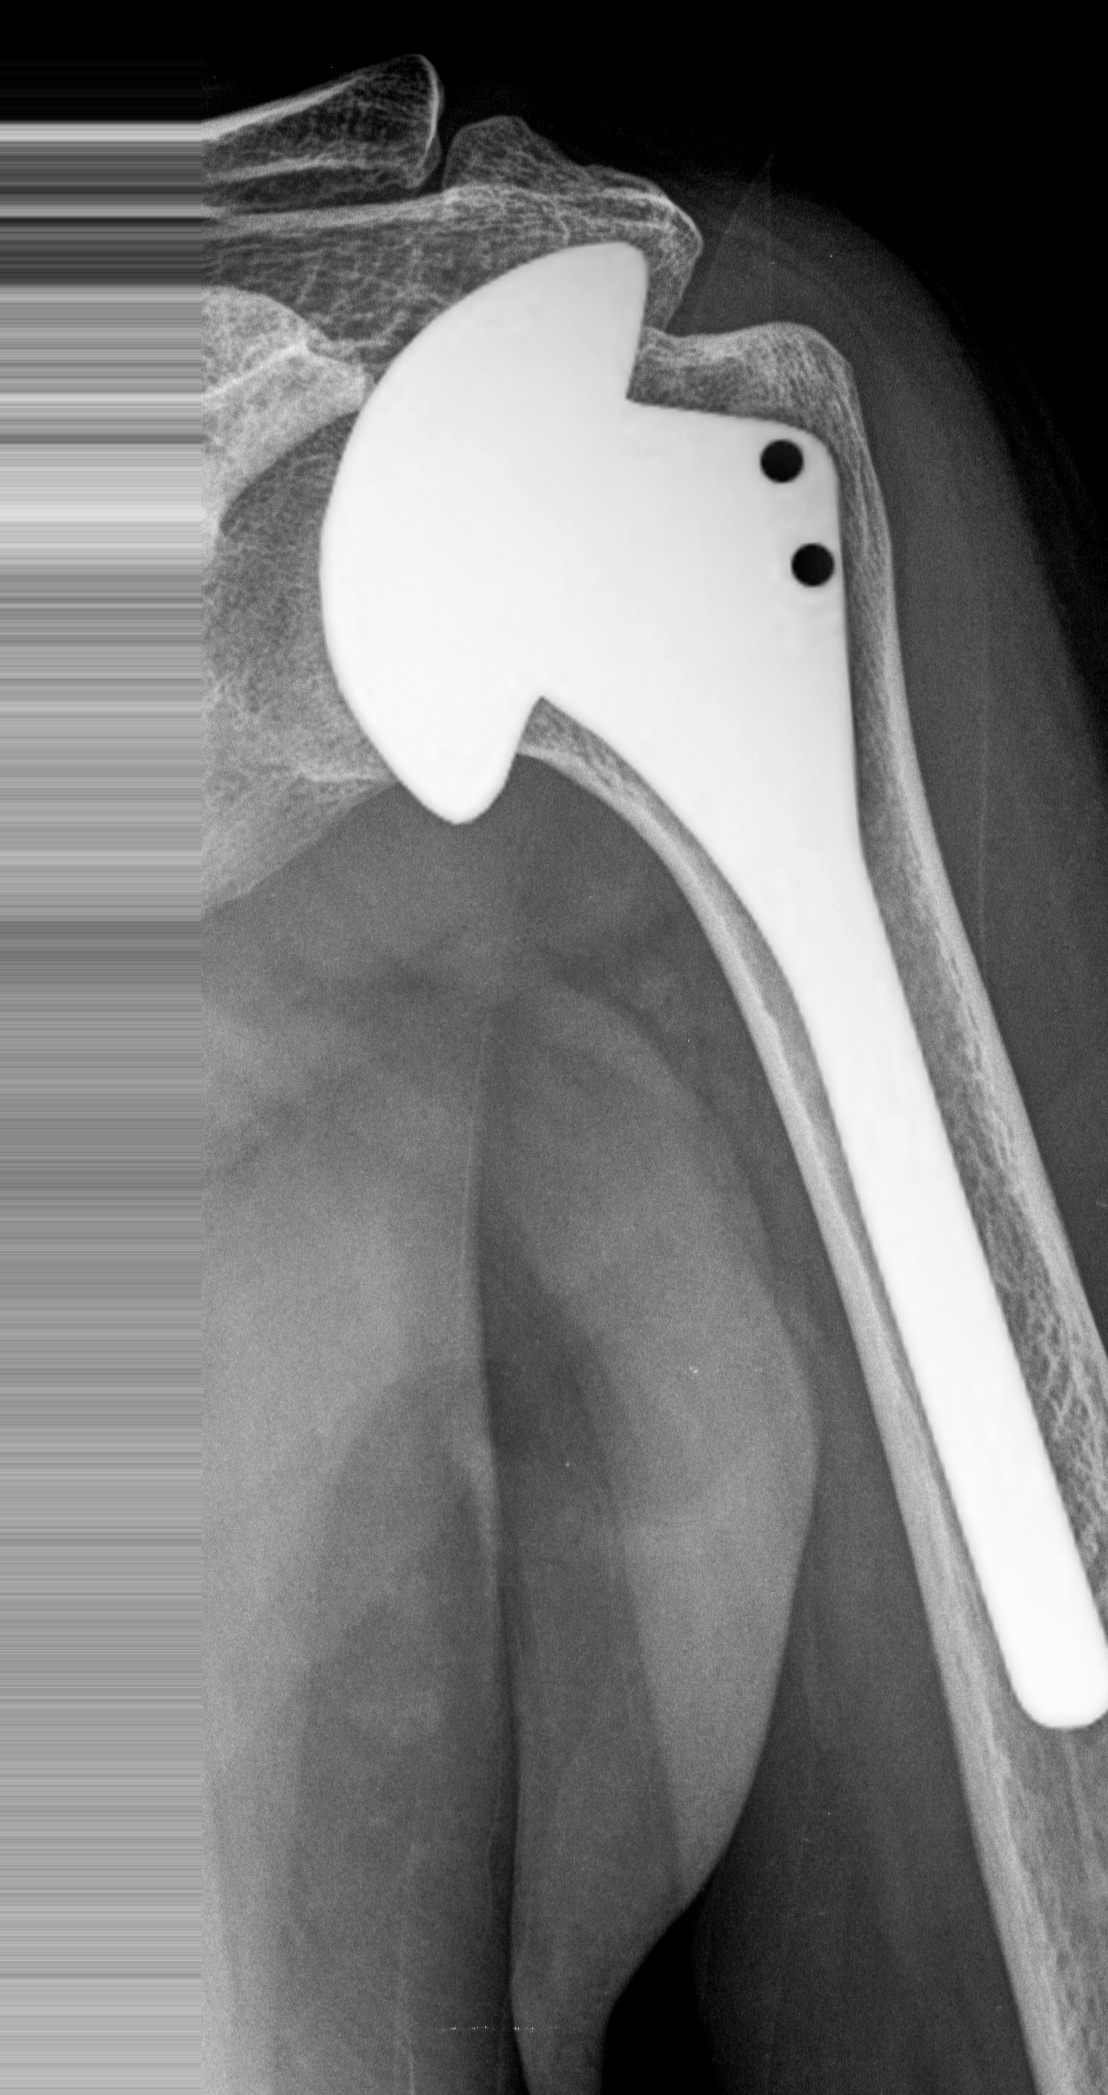Shoulder - Aequalishead - Tornier: (312, 220, 681, 842)
Shoulder - Aequalistail - Tornier: (458, 213, 899, 878)
